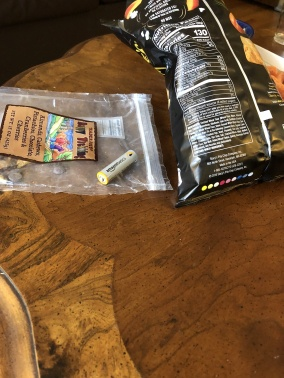battery: (95, 148, 140, 187)
